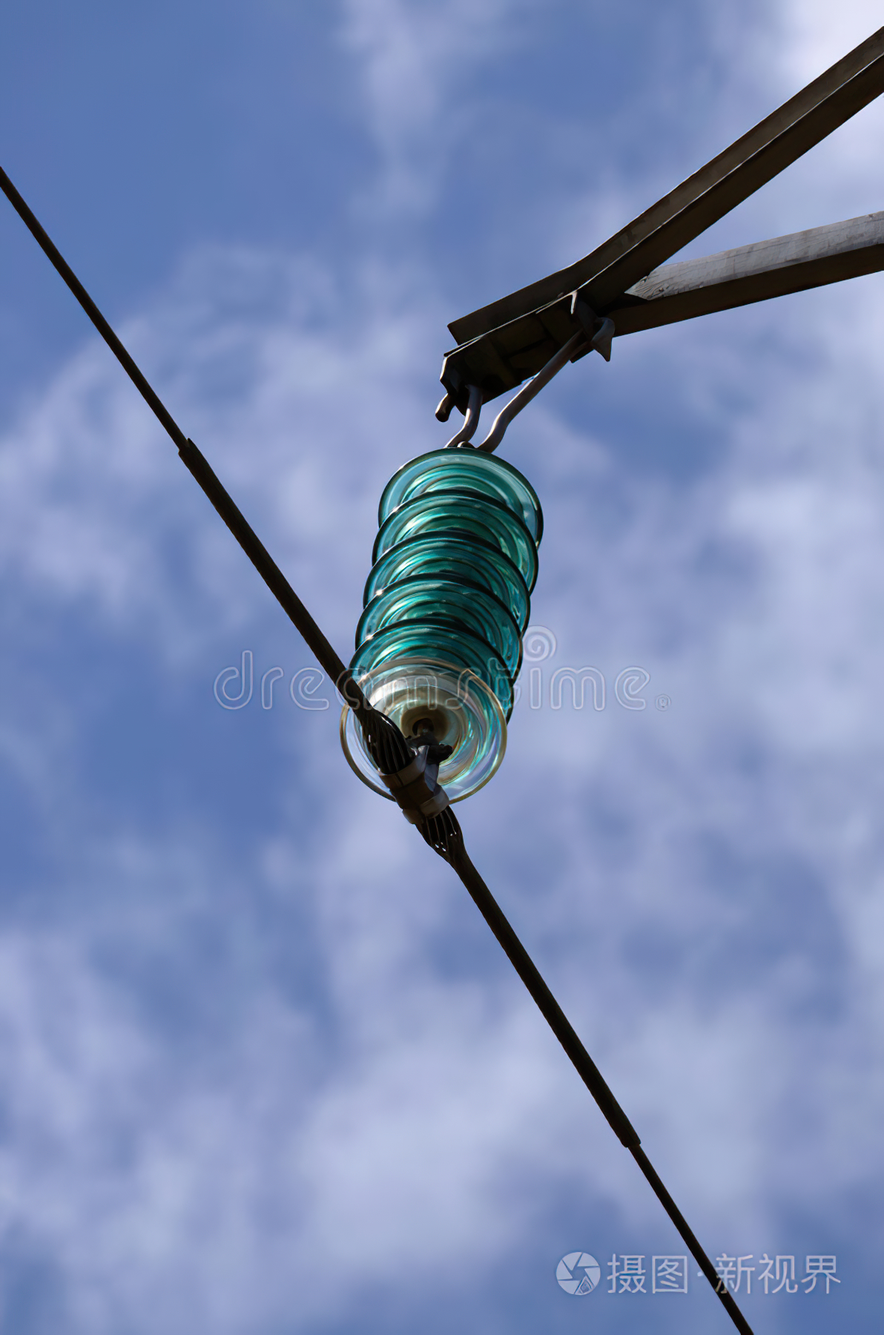insulator: (350, 445, 543, 802)
